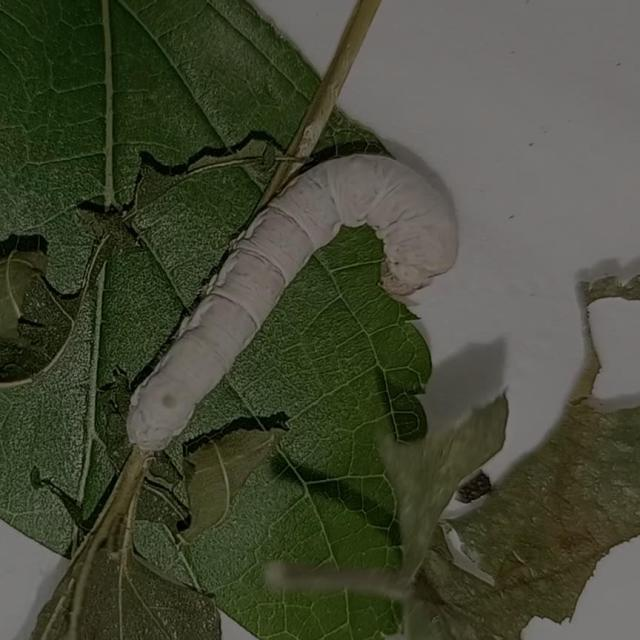Healthy: (92, 124, 492, 472)
